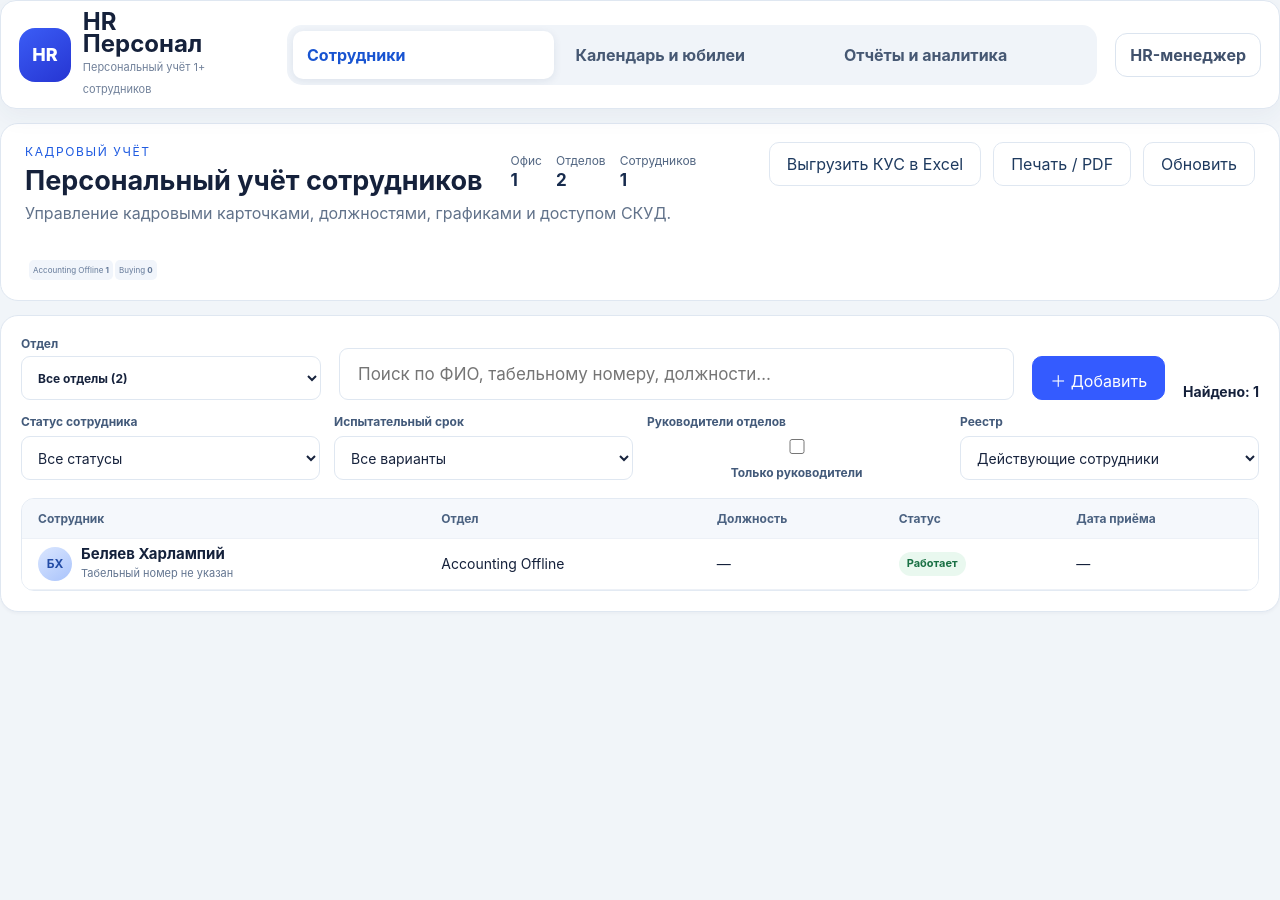
Кадровое рабочее место › показывает рабочие поля в согласованном порядке и фильтрует отдел по офису
Click the button "Беляев Харлампий" at coordinates (136, 564), box [38,545,233,583]
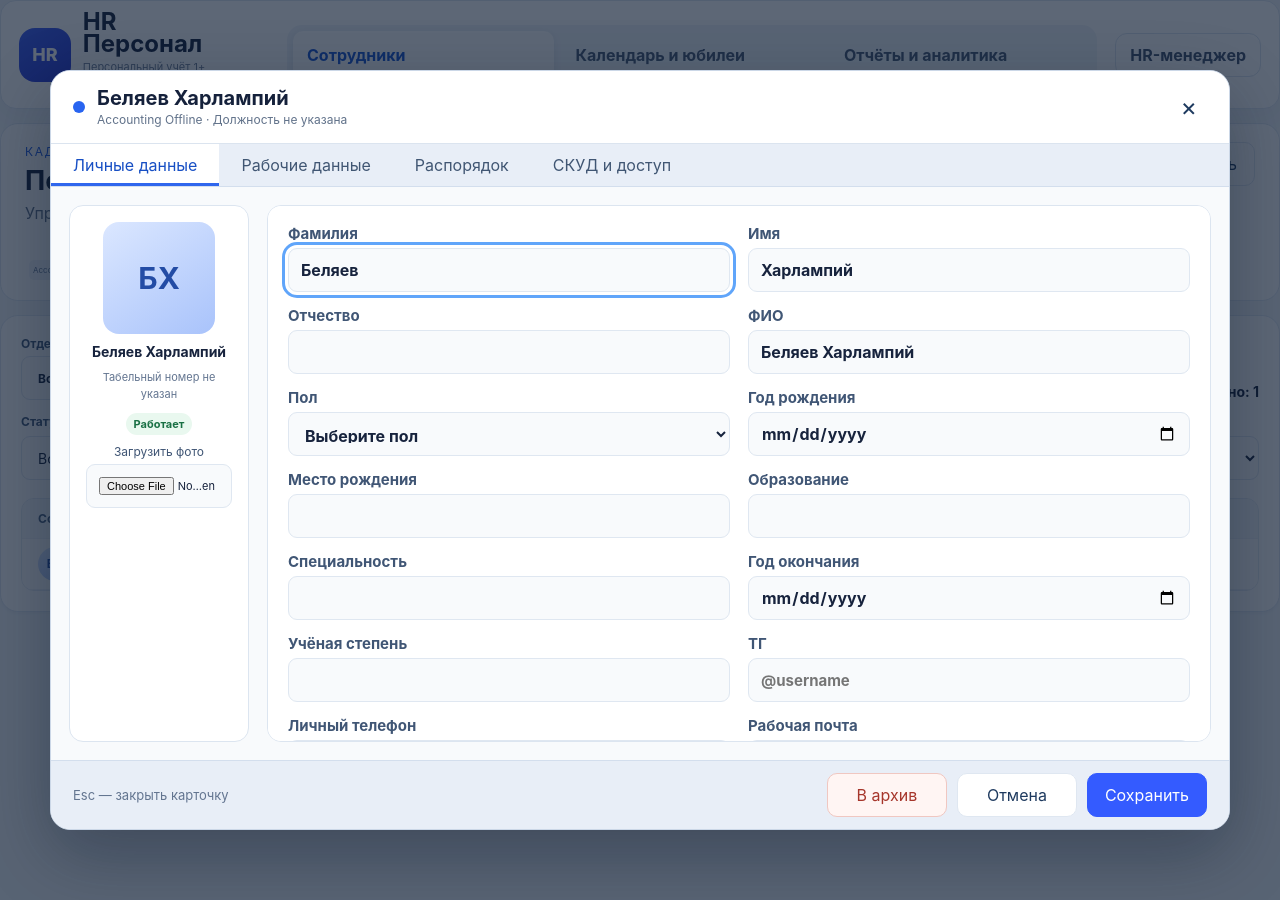
Click the tab "Рабочие данные" at coordinates (306, 165), box [219,144,393,186]
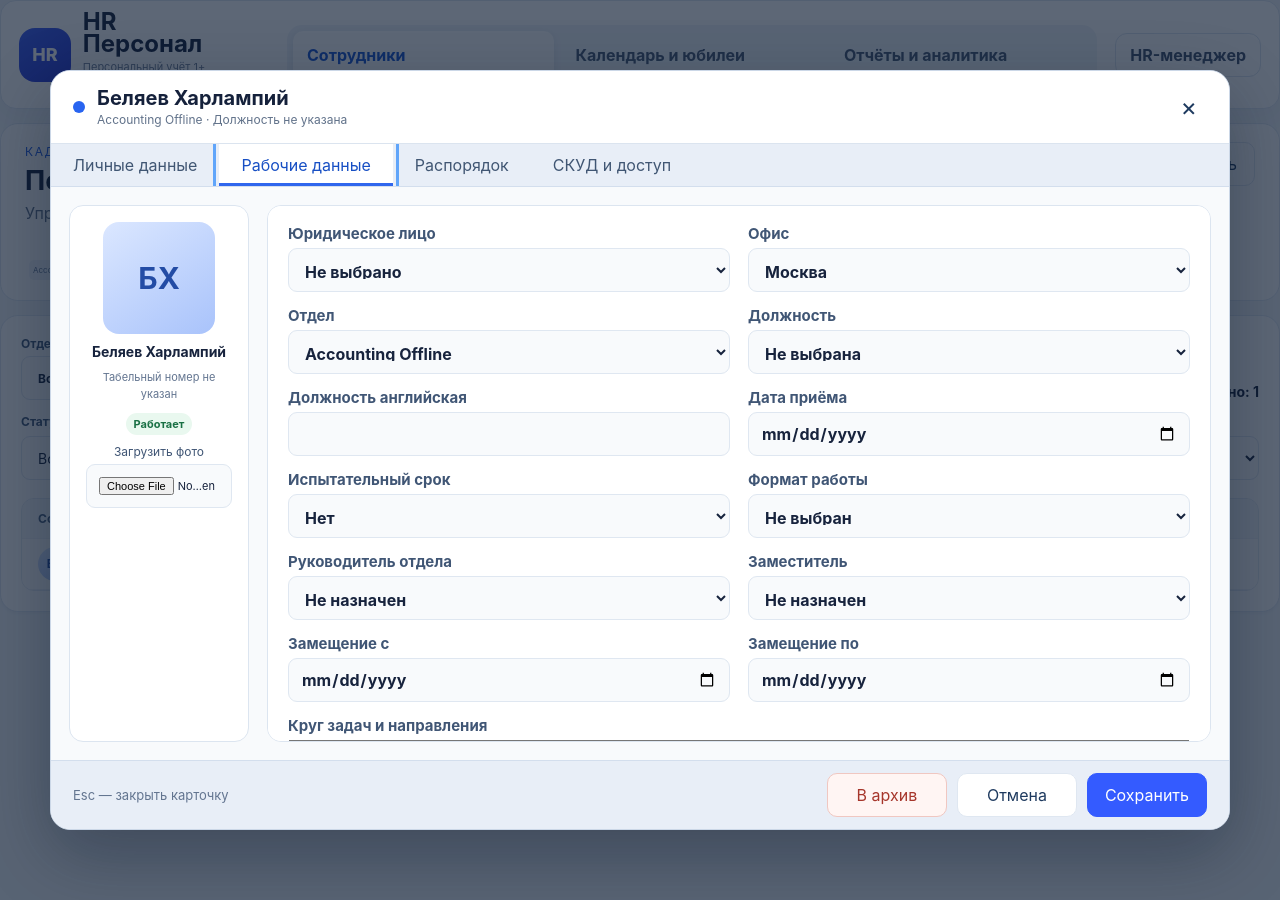
Select "СПб" in the dropdown labelled "Офис" at coordinates (969, 270), box [748,248,1190,292]
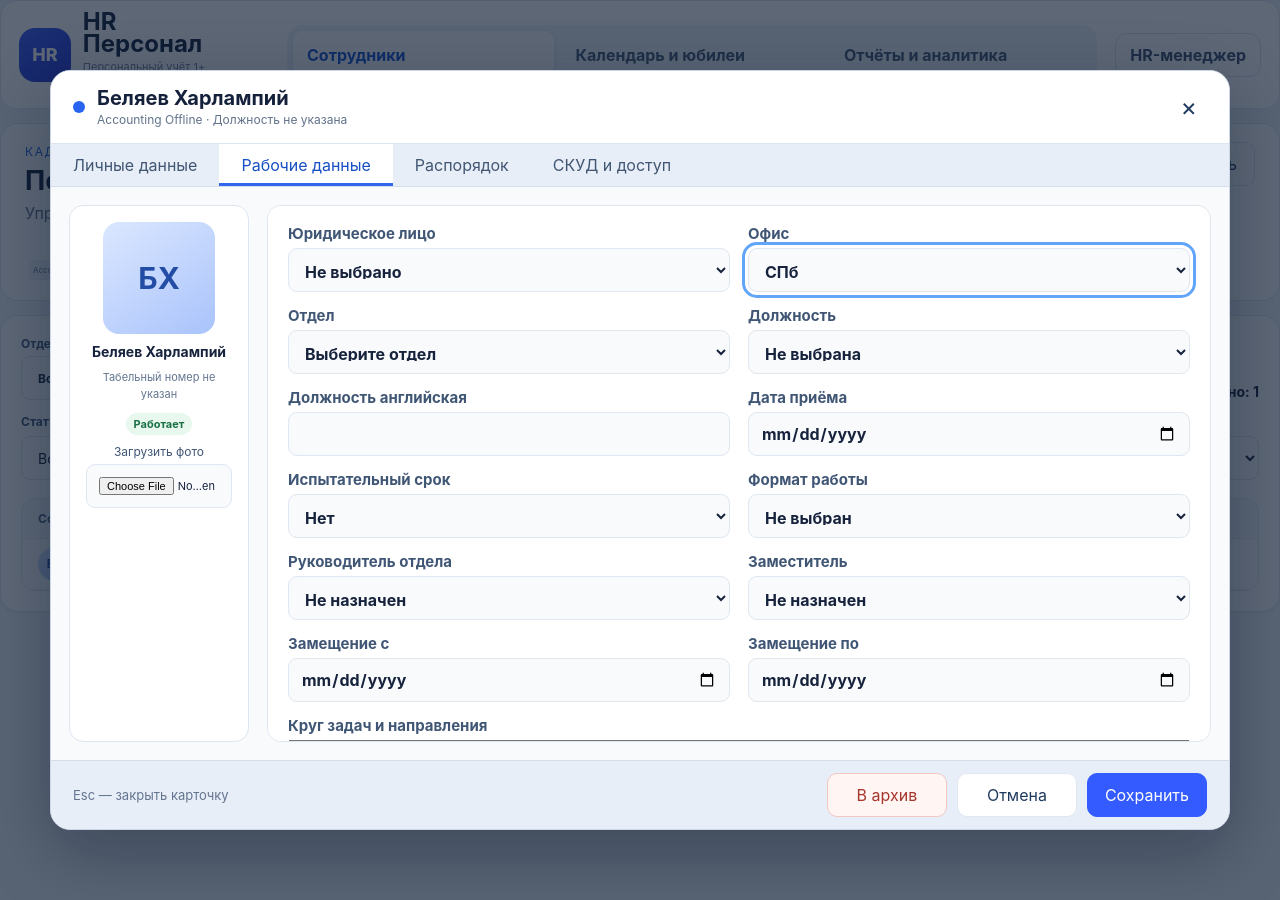
Result: the dropdown labelled "Отдел" shows "Выберите отдел" at [288,330,730,374]
